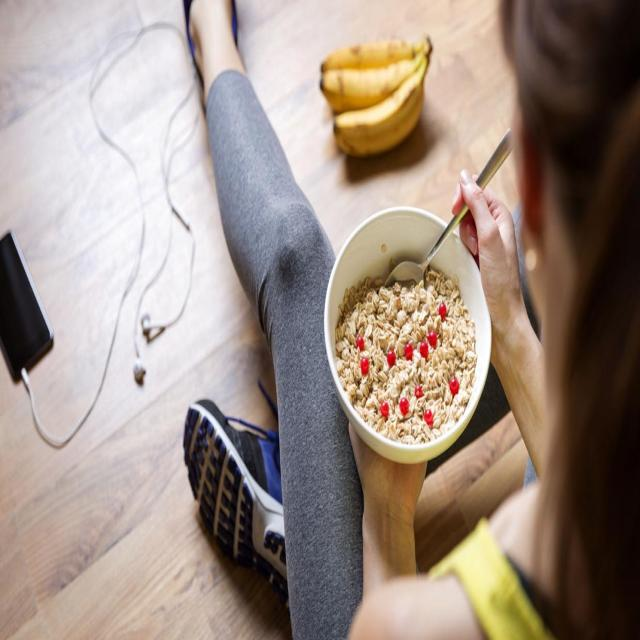avena: (328, 254, 480, 446)
